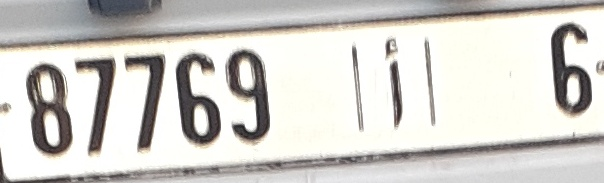6: (547, 20, 594, 117), (175, 51, 222, 147)
7: (123, 54, 167, 155), (72, 57, 117, 155)
8: (24, 63, 73, 156)
9: (222, 49, 274, 145)
a: (382, 36, 407, 127)
